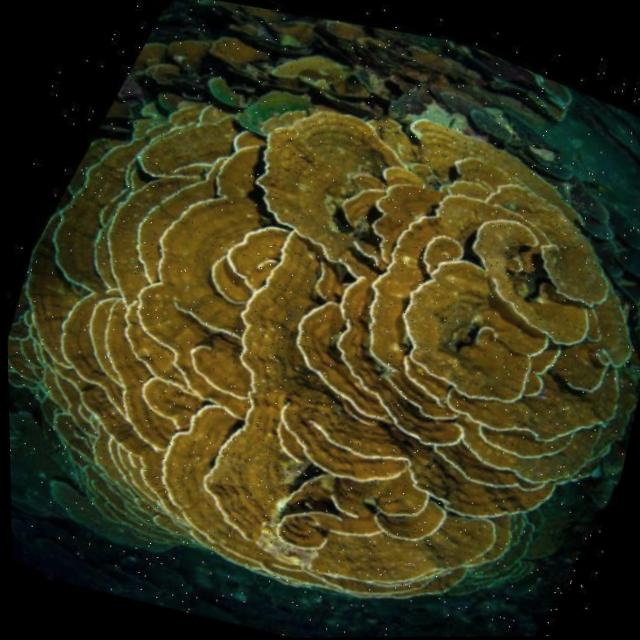Healthy Coral: (0, 19, 640, 640)
